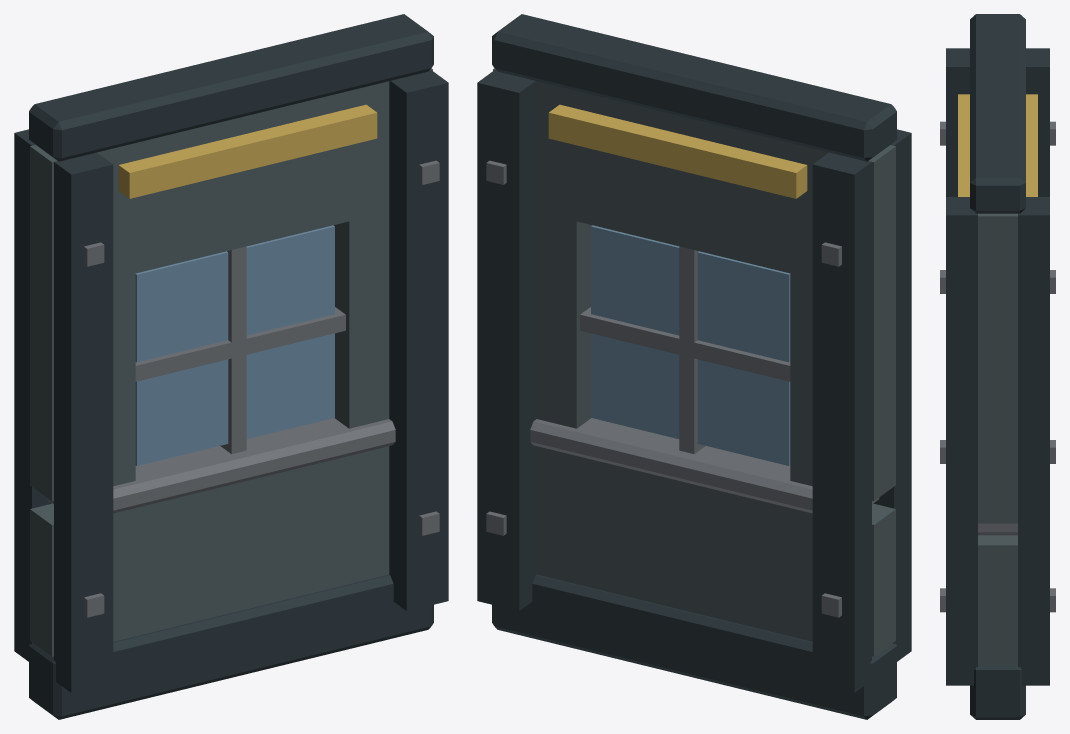
Rendered from installation-battery-wall-window.glb.
3 renders of one model, left to right at view 1: azimuth 30°, elevation 25°; view 2: azimuth 150°, elevation 25°; view 3: azimuth 270°, elevation 25°, orthographic. The views are drawn at different scales.
Parts seen in each view (by area): view 1: spandrel, glass, steel_rib, steel_rib.002, head, cornice, plinth, jamb_r, sill, jamb_l, warning_header, steel_rib.001 (+2 smaller); view 2: spandrel, glass, steel_rib.001, steel_rib.003, head, cornice, plinth, jamb_r, sill, jamb_l, warning_header.001, steel_rib (+2 smaller); view 3: steel_rib.002, steel_rib.003, cornice, jamb_r, spandrel, head, plinth, steel_rib, steel_rib.001, warning_header, warning_header.001, sill.
Boxes of the visible parts, x1,y1,x2,y2 form: spandrel: [30, 446, 389, 656]; glass: [135, 225, 334, 465]; steel_rib: [54, 152, 113, 692]; steel_rib.002: [389, 70, 448, 610]; head: [30, 68, 432, 293]; cornice: [29, 14, 433, 161]; plinth: [29, 574, 433, 719]; jamb_r: [334, 211, 389, 428]; sill: [46, 418, 395, 513]; jamb_l: [30, 273, 135, 500]; warning_header: [118, 104, 377, 198]; steel_rib.001: [14, 129, 51, 661]; spandrel: [536, 446, 895, 656]; glass: [591, 225, 790, 465]; steel_rib.001: [812, 152, 871, 692]; steel_rib.003: [477, 70, 536, 610]; head: [493, 68, 895, 293]; cornice: [492, 14, 896, 161]; plinth: [492, 574, 896, 719]; jamb_r: [536, 211, 591, 428]; sill: [530, 418, 879, 513]; jamb_l: [790, 273, 895, 500]; warning_header.001: [548, 104, 807, 198]; steel_rib: [874, 129, 911, 661]; steel_rib.002: [946, 197, 977, 685]; steel_rib.003: [1018, 197, 1049, 685]; cornice: [970, 14, 1025, 213]; jamb_r: [978, 335, 1017, 523]; spandrel: [978, 535, 1017, 664]; head: [978, 213, 1017, 335]; plinth: [970, 664, 1025, 719]; steel_rib: [946, 48, 969, 196]; steel_rib.001: [1026, 48, 1049, 196]; warning_header: [958, 94, 969, 196]; warning_header.001: [1026, 94, 1037, 196]; sill: [978, 523, 1017, 535].
Size of the model in its own units: 1 by 1.5 by 0.29.
